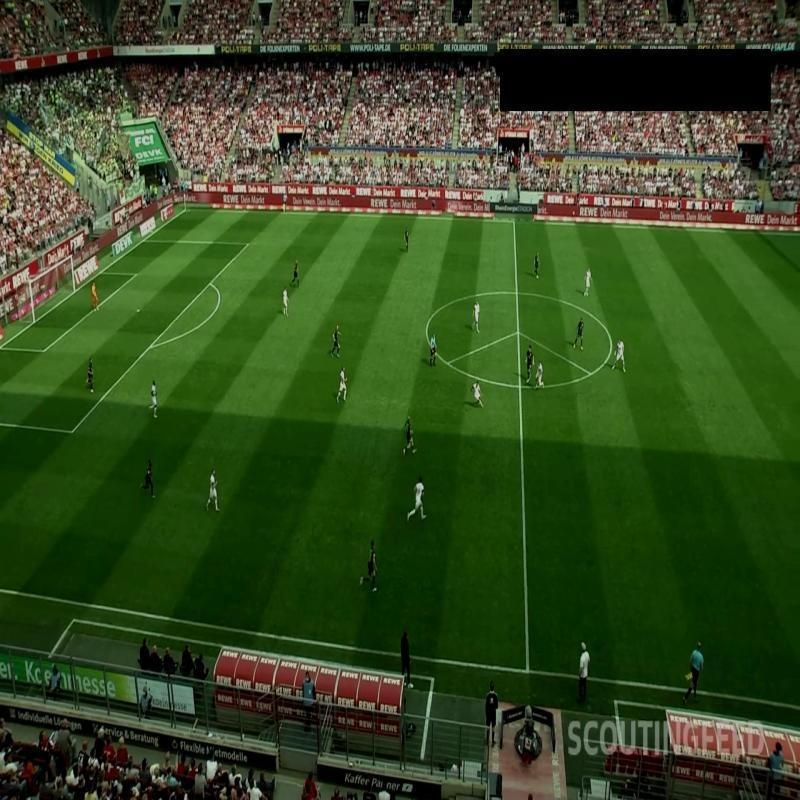1: (180, 205, 194, 218)
10: (204, 277, 217, 291)
11: (143, 338, 157, 351)
12: (64, 425, 78, 439)
13: (507, 212, 522, 226)
14: (510, 284, 524, 298)
15: (512, 378, 526, 392)
16: (519, 660, 538, 682)
2: (136, 235, 150, 249)
3: (92, 266, 106, 280)
7: (130, 266, 144, 280)
8: (37, 344, 51, 358)
9: (241, 236, 254, 249)
c: (419, 322, 434, 338), (604, 339, 618, 353)
